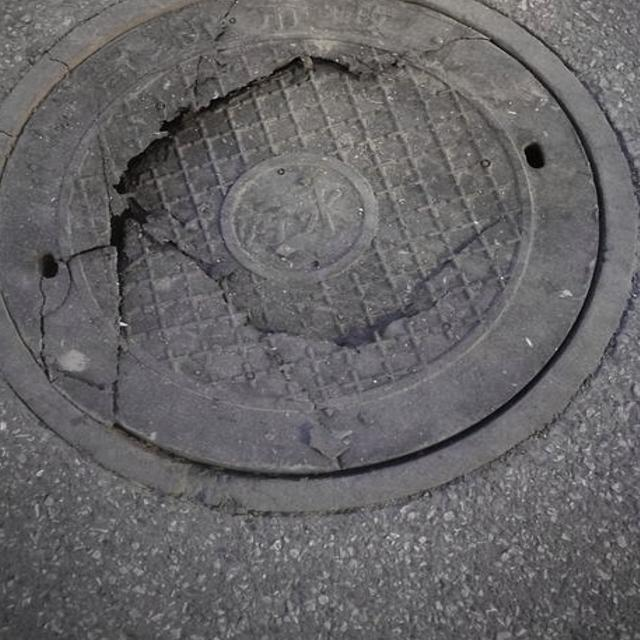broke: (0, 0, 634, 513)
